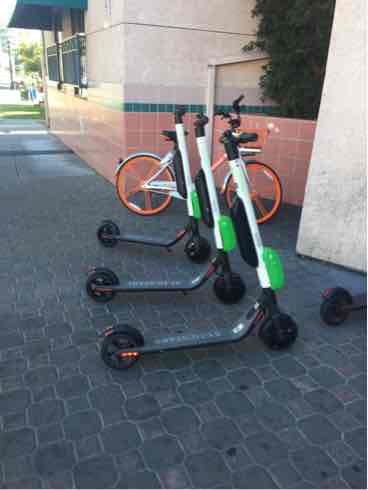scooter: (97, 106, 297, 369)
